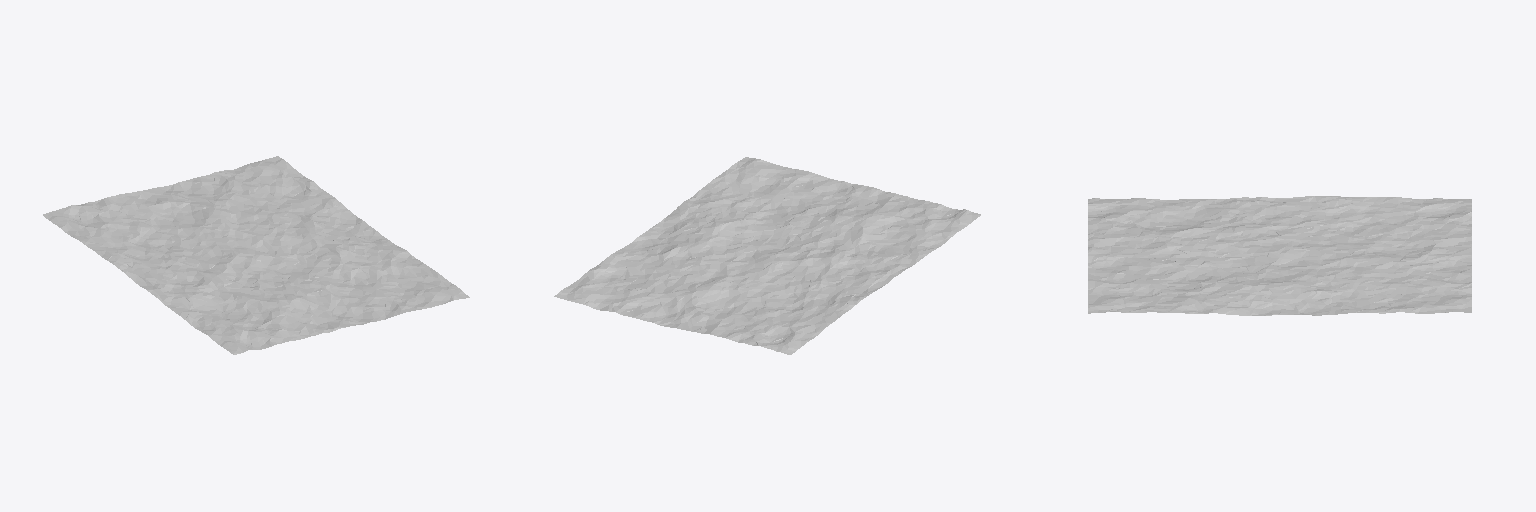
File: pool4k.obj
The picture shows the model from 3 angles: view 1: azimuth 30°, elevation 25°; view 2: azimuth 150°, elevation 25°; view 3: azimuth 270°, elevation 25°; orthographic projection.
Visible parts, largest first — view 1: Mesh; view 2: Mesh; view 3: Mesh.
Part boxes in pixels (left/top/right/bottom): Mesh: left=43, top=156, right=469, bottom=354; Mesh: left=554, top=157, right=980, bottom=354; Mesh: left=1088, top=196, right=1471, bottom=315.
Bounding box in the file's own units: 8.16 × 0.1922 × 11.49.